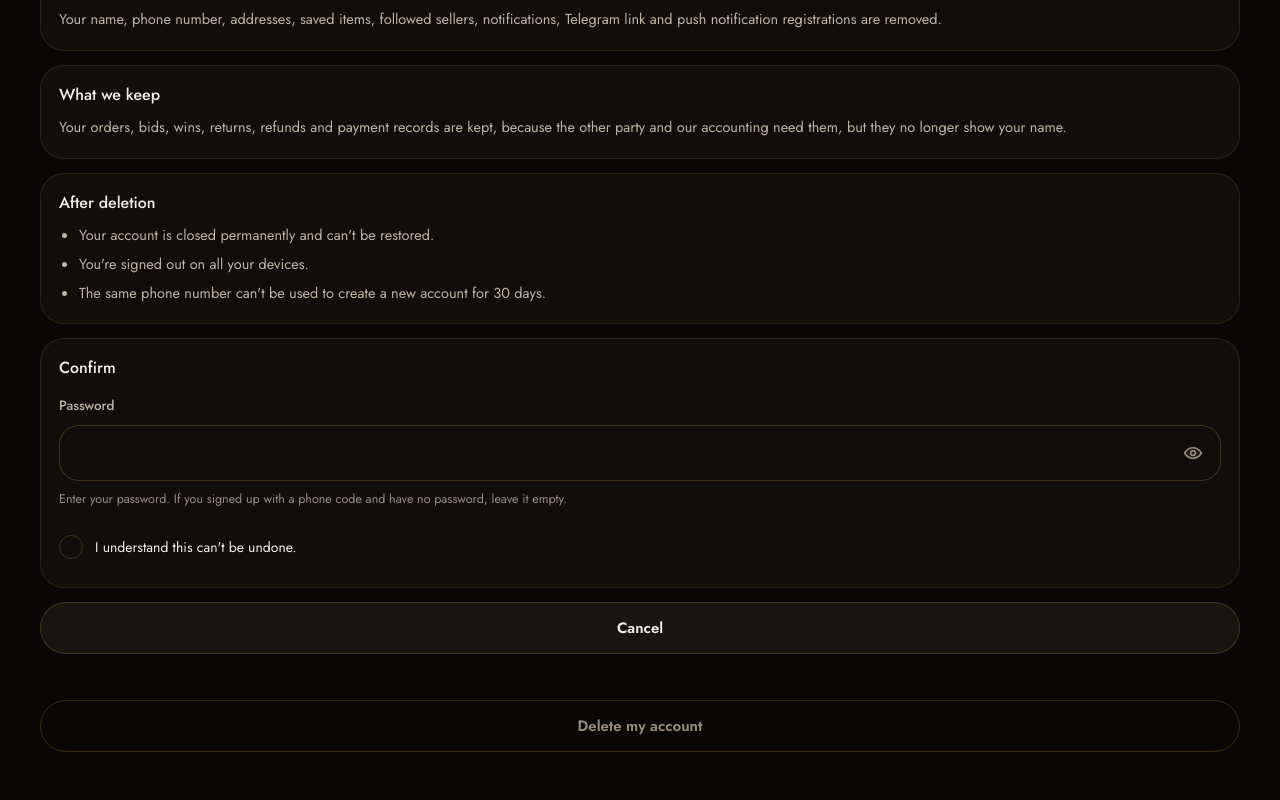
Delete account › explains the consequences and keeps the delete button disabled until confirmed
(page scrolled)
Expected: the list item "Your account is closed permanently and can't be restored." is shown, [79, 224, 434, 246]
Expected: the text "no longer show your name" is shown, [59, 116, 1067, 137]
What coordinates should you click on to do the following:
click the checkbox labelled "I understand this can't be undone."
I would click on:
 (178, 547)
Its box is [59, 535, 296, 559].
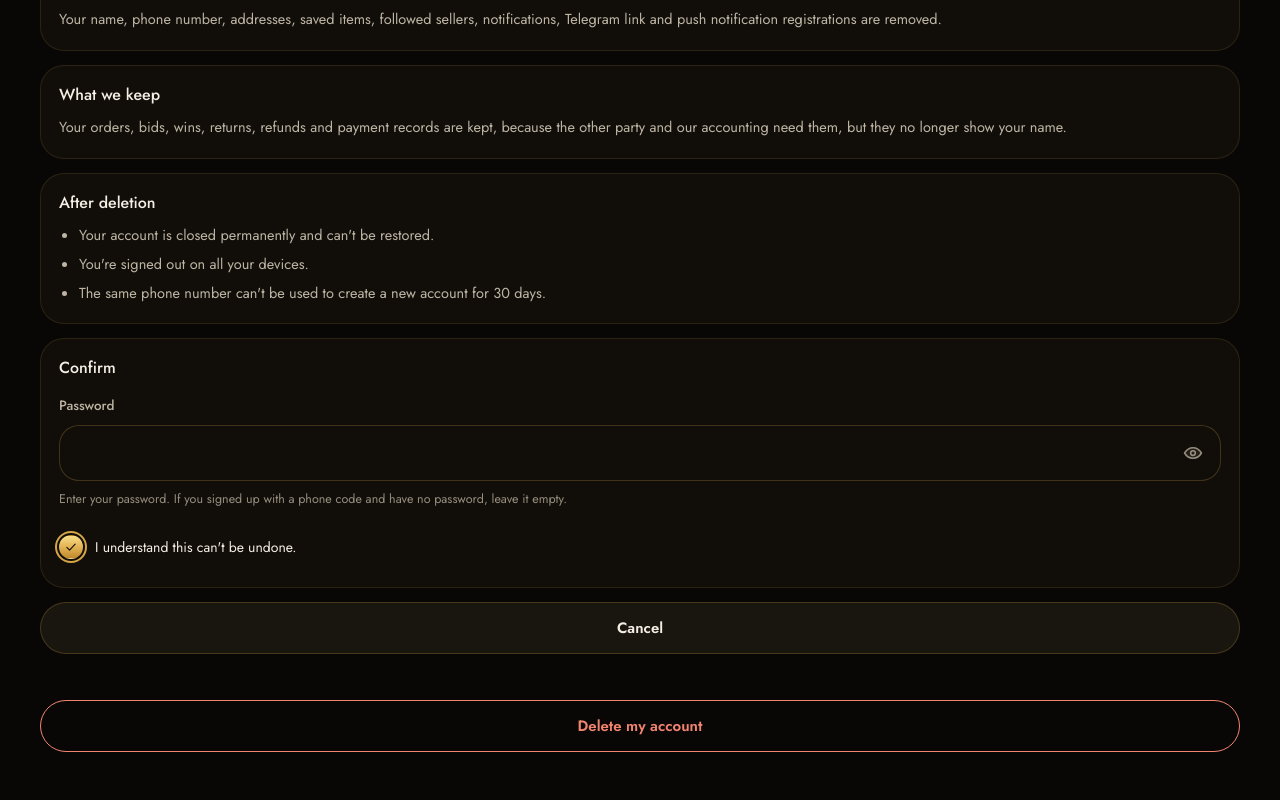
Now the button "Delete my account" is enabled, box [40, 700, 1240, 752]
